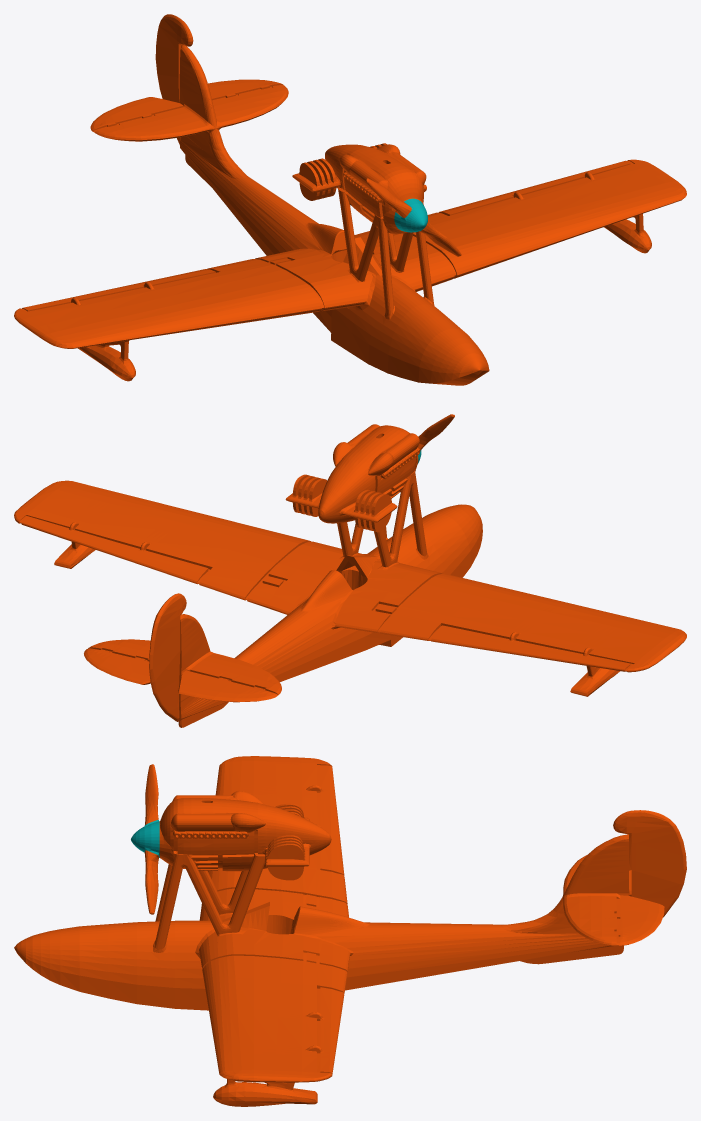
File: Macchi-M33.fbx
3 views of the same model, one above another, from view 1: azimuth 30°, elevation 25°; view 2: azimuth 150°, elevation 25°; view 3: azimuth 270°, elevation 25° (orthographic). The views are drawn at different scales.
Visible parts, largest first — view 1: 1_144_Macchi_M33_Body_0616, 1_144_Macchi_M33_AirScrew_0606; view 2: 1_144_Macchi_M33_Body_0616, 1_144_Macchi_M33_AirScrew_0606; view 3: 1_144_Macchi_M33_Body_0616, 1_144_Macchi_M33_AirScrew_0606.
Part boxes in pixels (x1=…): 1_144_Macchi_M33_Body_0616: x1=14, y1=14, x2=686, y2=385; 1_144_Macchi_M33_AirScrew_0606: x1=366, y1=178, x2=461, y2=256; 1_144_Macchi_M33_Body_0616: x1=14, y1=424, x2=686, y2=727; 1_144_Macchi_M33_AirScrew_0606: x1=417, y1=414, x2=454, y2=463; 1_144_Macchi_M33_Body_0616: x1=14, y1=756, x2=686, y2=1106; 1_144_Macchi_M33_AirScrew_0606: x1=131, y1=764, x2=159, y2=914.
Size of the model in its own units: 6764 by 2069 by 5949.
